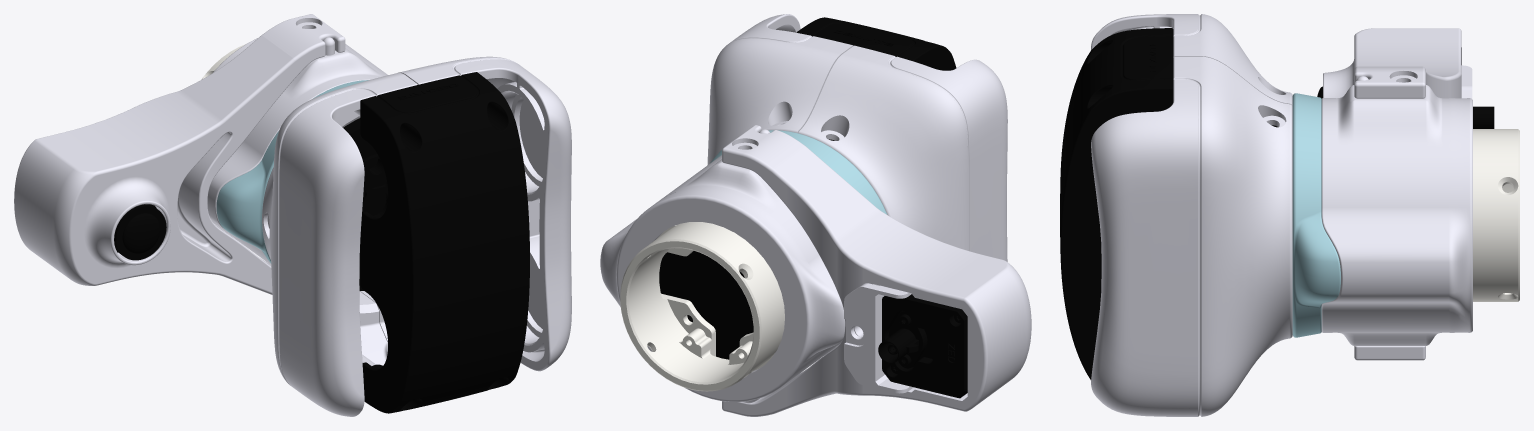
File: gripper_base.glb
3 views of the same model, side by side, from view 1: azimuth 30°, elevation 25°; view 2: azimuth 150°, elevation 25°; view 3: azimuth 270°, elevation 25° (orthographic). The views are drawn at different scales.
Visible parts, largest first — view 1: DXST2509003, DXJZ2509030.001, DXST2509001, DXST2509002, DXJZ2509028.001, DXJZ2509027.001, ZEDX One GS, DM4340-24V-MIT.001; view 2: DXJZ2509030.001, DXST2509001, DXJZ2509028.001, DXJZ2509020.001, DXST2509002, ZEDX One GS, DM4340-24V-MIT.001, DXJZ2509029.001, DXST2509003, DXJZ2509027.001; view 3: DXST2509002, DXJZ2509028.001, DXST2509003, DXJZ2509030.001, DXJZ2509027.001, DXJZ2509020.001, DXST2509001, ZEDX One GS.
Part boxes in pixels (left/top/right/bottom): DXST2509003: left=360, top=72, right=529, bottom=413; DXJZ2509030.001: left=14, top=14, right=345, bottom=294; DXST2509001: left=262, top=73, right=417, bottom=416; DXST2509002: left=360, top=56, right=571, bottom=371; DXJZ2509028.001: left=207, top=37, right=387, bottom=264; DXJZ2509027.001: left=216, top=80, right=368, bottom=263; ZEDX One GS: left=114, top=204, right=166, bottom=260; DM4340-24V-MIT.001: left=343, top=118, right=387, bottom=290; DXJZ2509030.001: left=722, top=125, right=1031, bottom=416; DXST2509001: left=798, top=45, right=1007, bottom=352; DXJZ2509028.001: left=600, top=129, right=845, bottom=403; DXJZ2509020.001: left=620, top=222, right=784, bottom=391; DXST2509002: left=707, top=14, right=853, bottom=165; ZEDX One GS: left=878, top=294, right=967, bottom=398; DM4340-24V-MIT.001: left=659, top=251, right=753, bottom=359; DXJZ2509029.001: left=844, top=283, right=913, bottom=393; DXST2509003: left=796, top=17, right=956, bottom=140; DXJZ2509027.001: left=710, top=130, right=887, bottom=214; DXST2509002: left=1091, top=56, right=1292, bottom=416; DXJZ2509028.001: left=1321, top=76, right=1472, bottom=345; DXST2509003: left=1060, top=28, right=1173, bottom=379; DXJZ2509030.001: left=1323, top=28, right=1461, bottom=360; DXJZ2509027.001: left=1292, top=93, right=1340, bottom=337; DXJZ2509020.001: left=1473, top=129, right=1519, bottom=301; DXST2509001: left=1091, top=14, right=1292, bottom=105; ZEDX One GS: left=1317, top=47, right=1494, bottom=128.
Size of the model in its own units: 0.1417 by 0.1033 by 0.1351.
